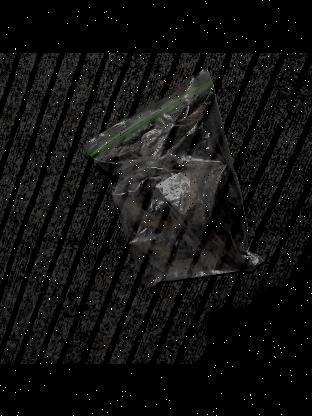Others: (85, 70, 262, 286)
